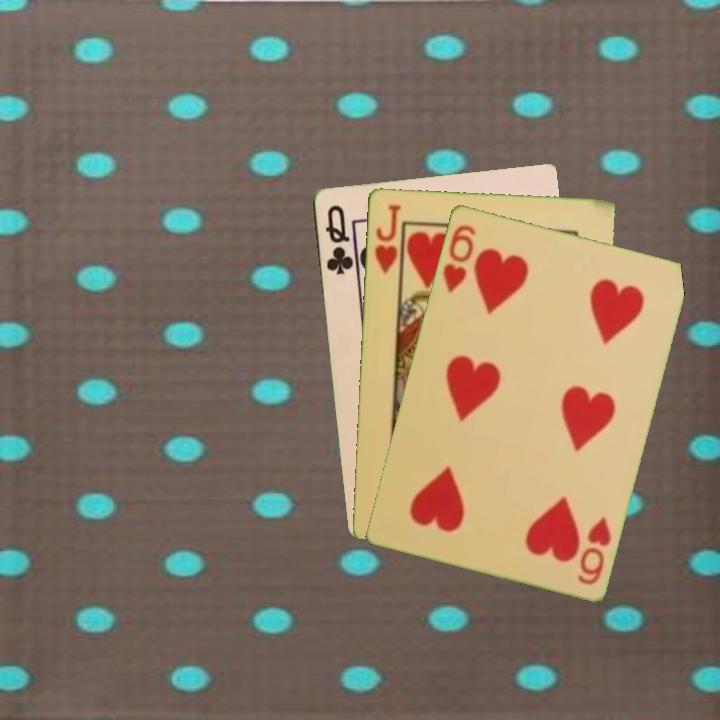6h: (438, 221, 479, 295), (574, 512, 614, 587)
Jh: (371, 200, 404, 283)
Qc: (321, 201, 356, 277)
